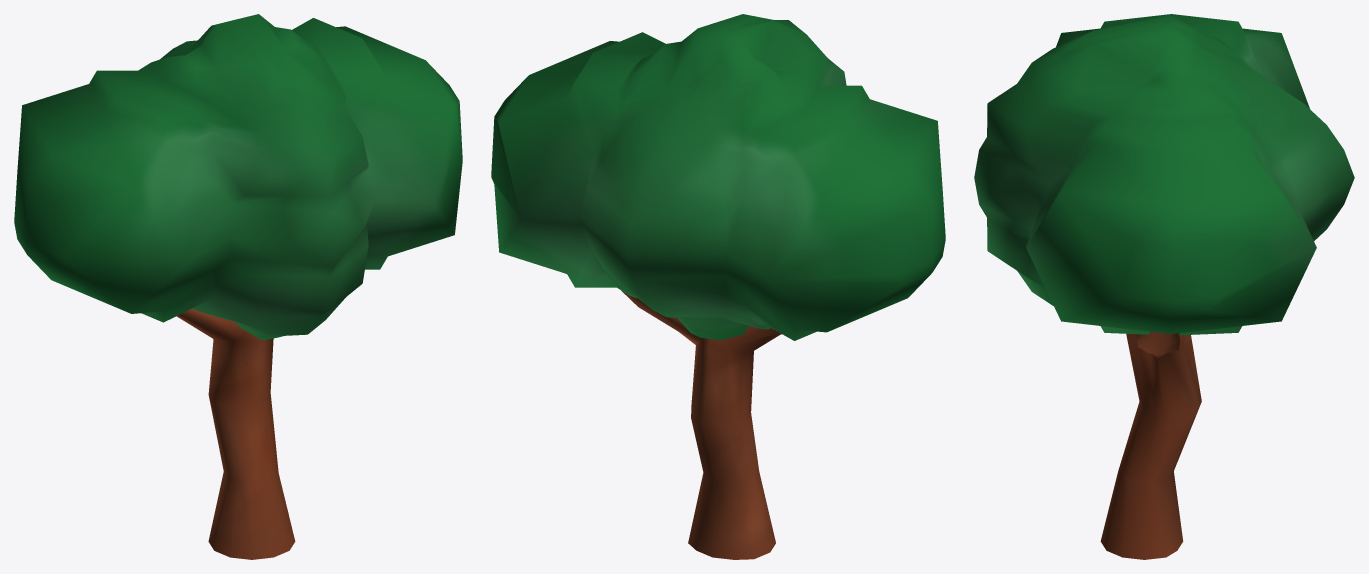
File: Tree2.fbx
3 views of the same model, side by side, from view 1: azimuth 30°, elevation 25°; view 2: azimuth 150°, elevation 25°; view 3: azimuth 270°, elevation 25° (orthographic).
Visible parts, largest first — view 1: Cylinder.002; view 2: Cylinder.002; view 3: Cylinder.002.
Part boxes in pixels (left/top/right/bottom): Cylinder.002: left=14, top=14, right=462, bottom=559; Cylinder.002: left=491, top=14, right=945, bottom=559; Cylinder.002: left=974, top=14, right=1354, bottom=559.
Bounding box in the file's own units: 821 × 953 × 636.
Materials: 1 (1 with a texture image).
